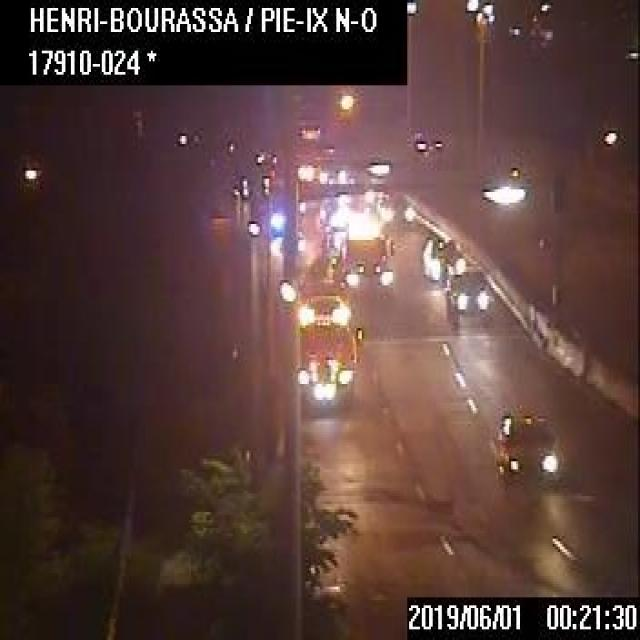vehicle: (296, 320, 354, 413), (493, 408, 558, 488), (333, 238, 391, 305), (446, 267, 489, 328), (421, 234, 463, 280), (294, 294, 348, 324), (379, 197, 413, 230)
